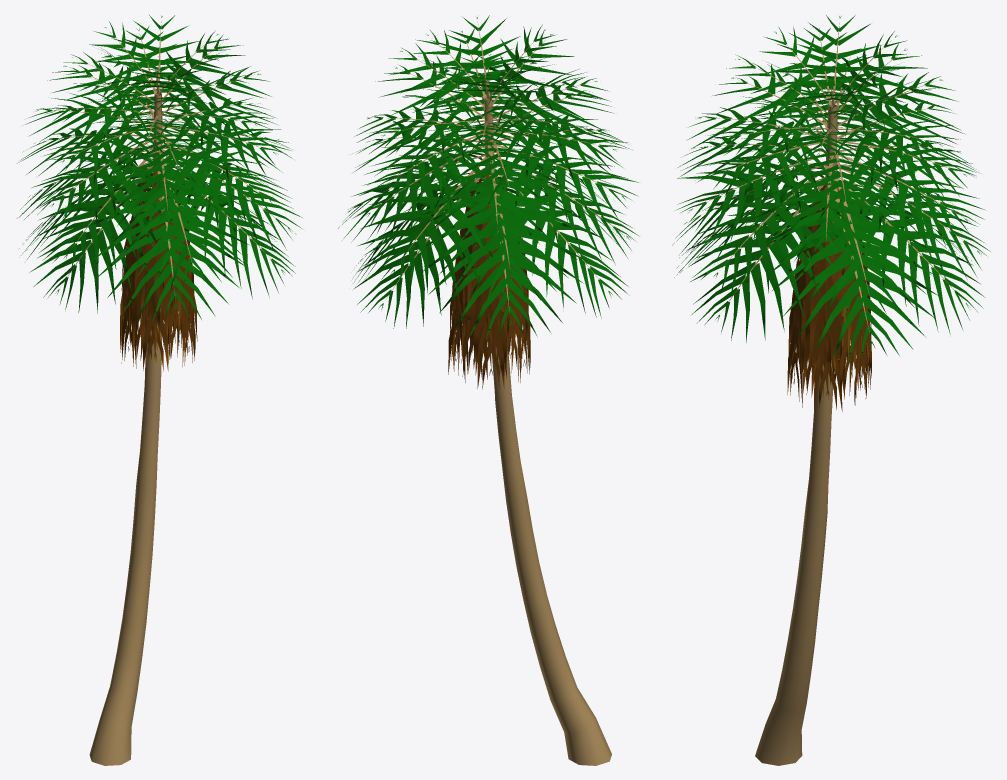
File: Tree_02.fbx
3 renders of one model, left to right at view 1: azimuth 30°, elevation 25°; view 2: azimuth 150°, elevation 25°; view 3: azimuth 270°, elevation 25°, orthographic. The views are drawn at different scales.
Visible parts, largest first — view 1: Foliage002; view 2: Foliage002; view 3: Foliage002.
Part boxes in pixels (box(x1,y1,x2,y2)): Foliage002: box(17, 15, 302, 765); Foliage002: box(338, 15, 639, 765); Foliage002: box(672, 15, 990, 765).
Size of the model in its own units: 400 by 1025 by 399.
